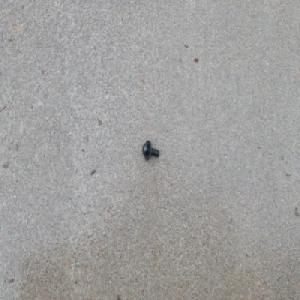BoltWasher: (141, 140, 159, 161)
